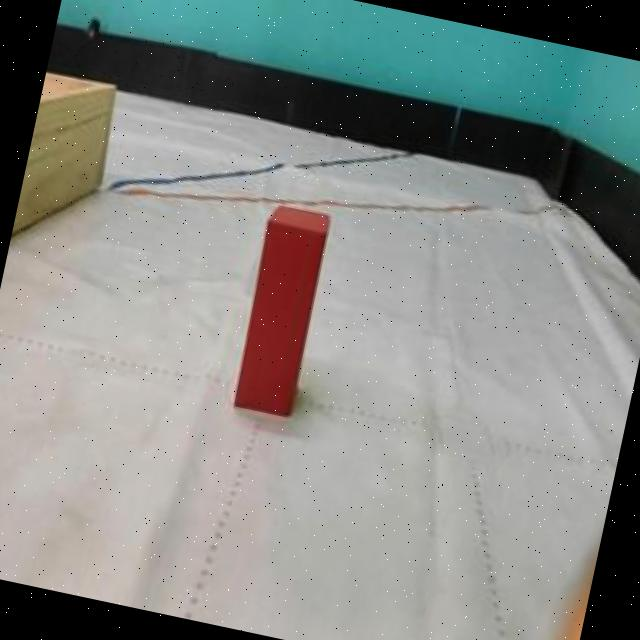redbox: (227, 196, 334, 422)
